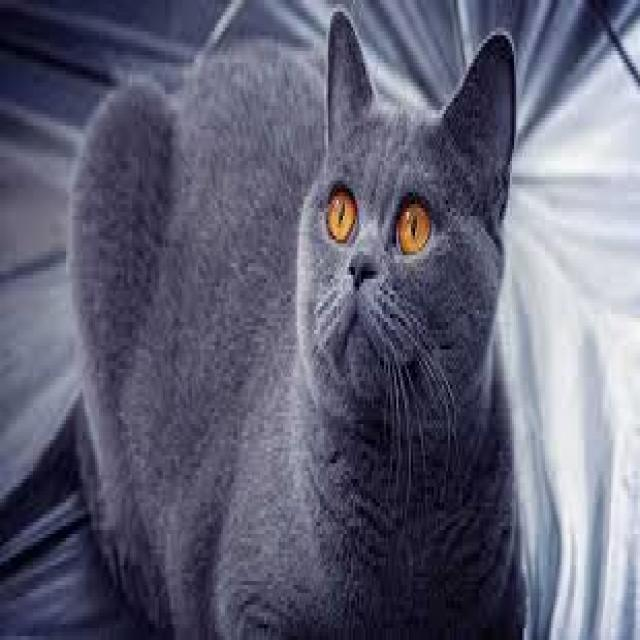Cat: (63, 8, 531, 640)
